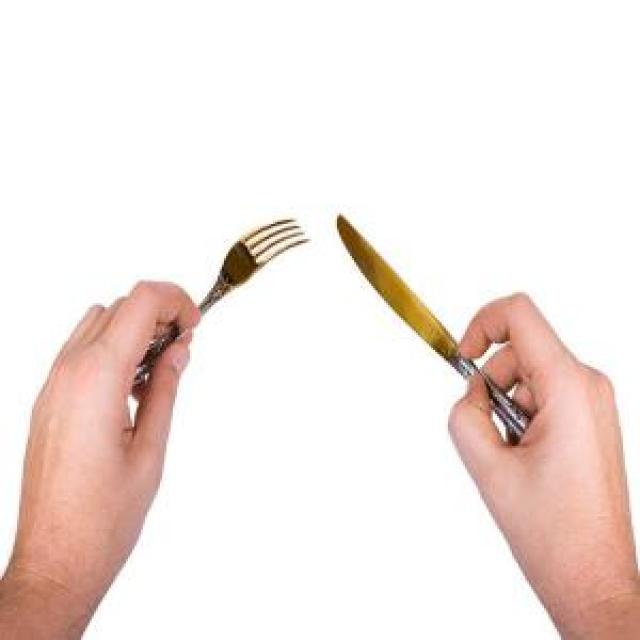knife: (335, 215, 532, 440)
